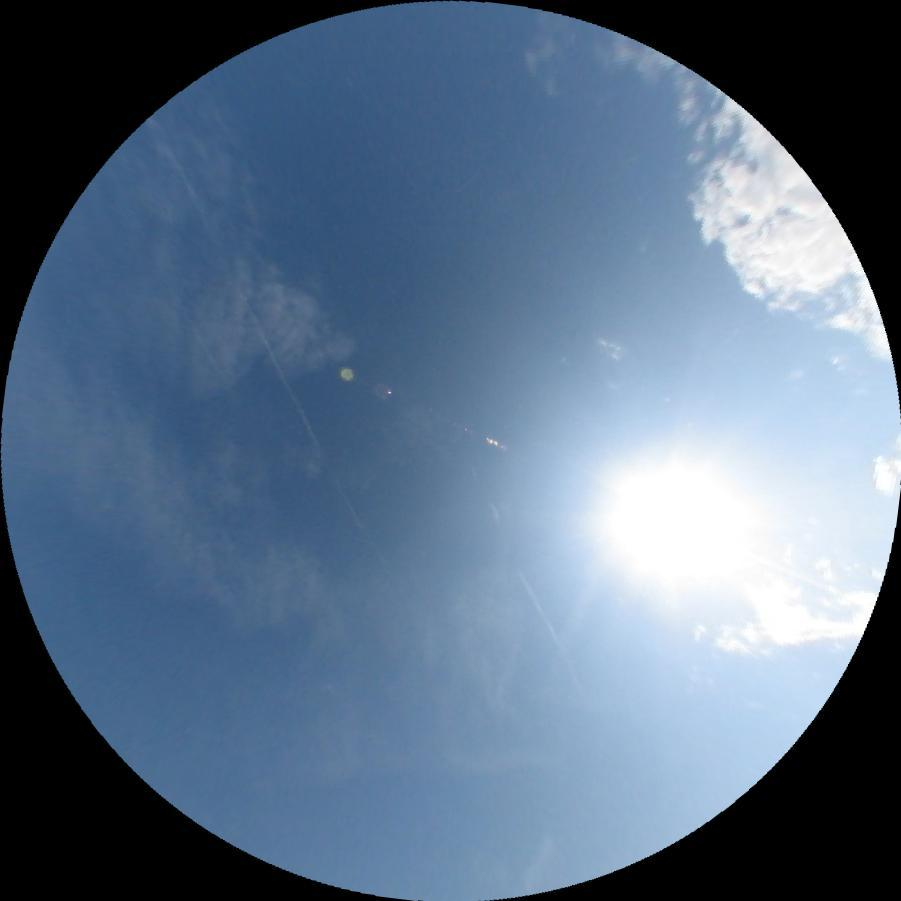contrail old: (142, 115, 359, 527), (514, 563, 579, 680)
contrail young: (182, 309, 223, 377), (452, 170, 481, 195)
sun: (598, 451, 757, 593)
